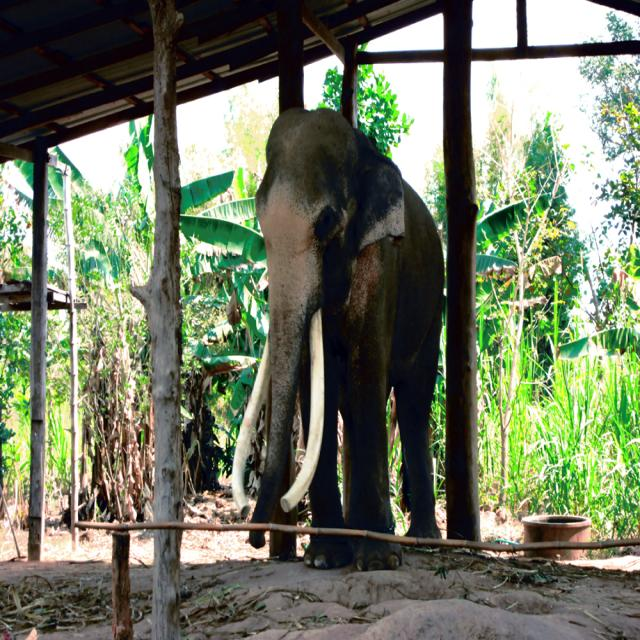Elephant: (238, 110, 444, 562)
